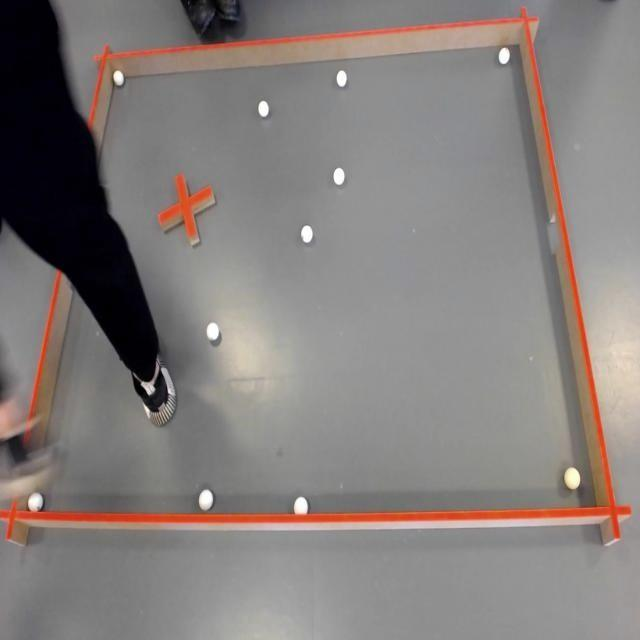white-golf-balls: (563, 464, 580, 492), (198, 487, 215, 512), (292, 494, 310, 517), (28, 490, 45, 514), (204, 321, 221, 344), (496, 46, 513, 68), (300, 222, 316, 245), (111, 68, 127, 89), (256, 100, 272, 120), (332, 166, 346, 188), (334, 70, 349, 90)
